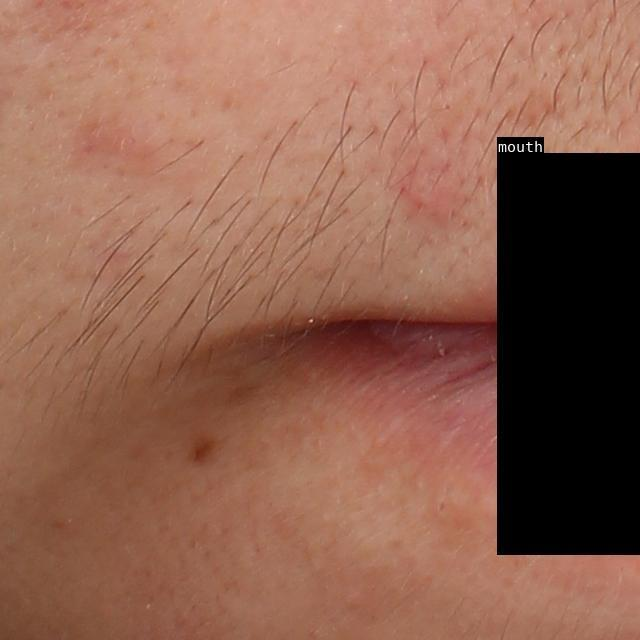nevus: (184, 432, 221, 470)
